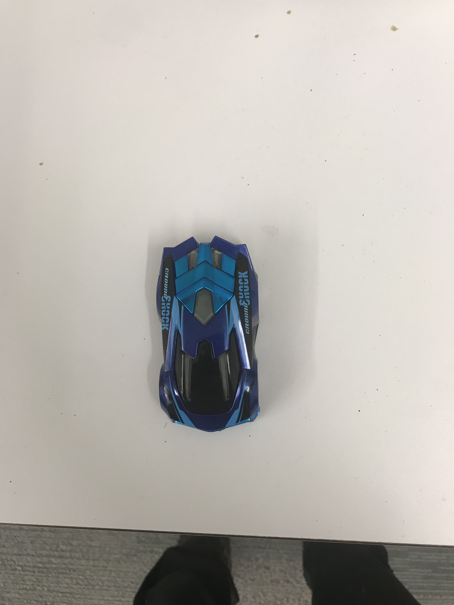Shock: (153, 235, 263, 433)
